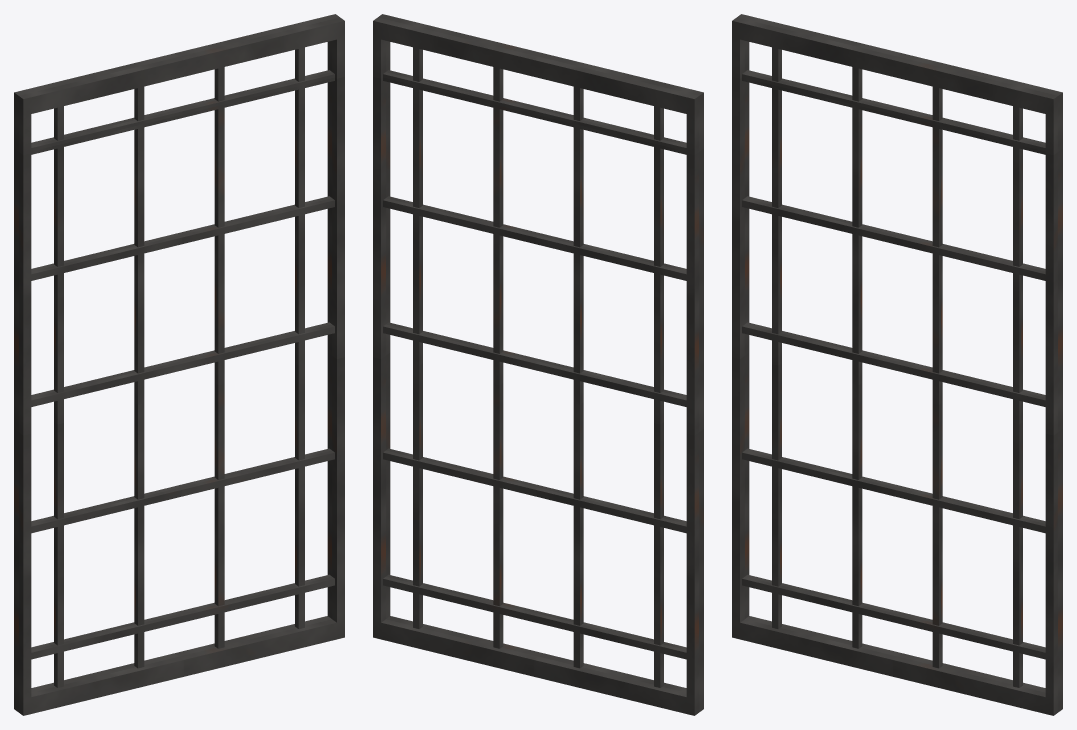
File: Dungeon_Grate_1_LOD1.gltf
3 views of the same model, side by side, from view 1: azimuth 30°, elevation 25°; view 2: azimuth 150°, elevation 25°; view 3: azimuth 330°, elevation 25° (orthographic).
Parts seen in each view (by area): view 1: Dungeon_Grate_1_LOD1; view 2: Dungeon_Grate_1_LOD1; view 3: Dungeon_Grate_1_LOD1.
Part boxes in pixels (x1,y1,x2,y2): Dungeon_Grate_1_LOD1: [14, 14, 344, 715]; Dungeon_Grate_1_LOD1: [373, 14, 703, 715]; Dungeon_Grate_1_LOD1: [732, 14, 1062, 715].
Bounding box in the file's own units: 1.2 × 2.2 × 0.06.
Materials: 1 (1 with a texture image).
